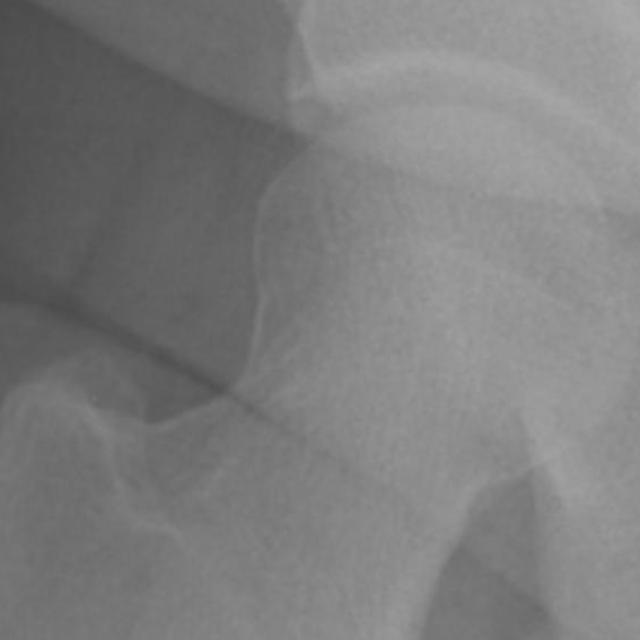Fitted_femural_head: (403, 103, 432, 403)
